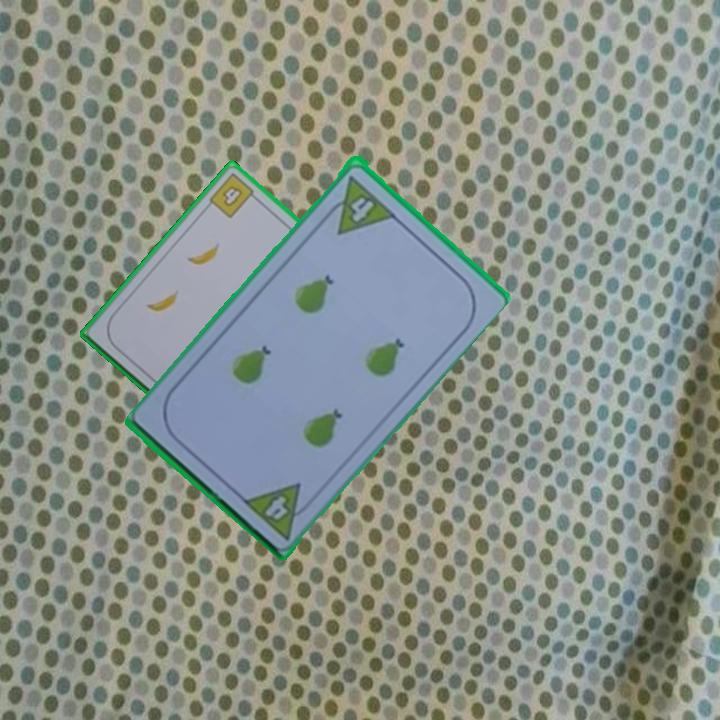4b: (205, 169, 261, 221)
4p: (319, 171, 398, 237), (240, 478, 319, 543)
